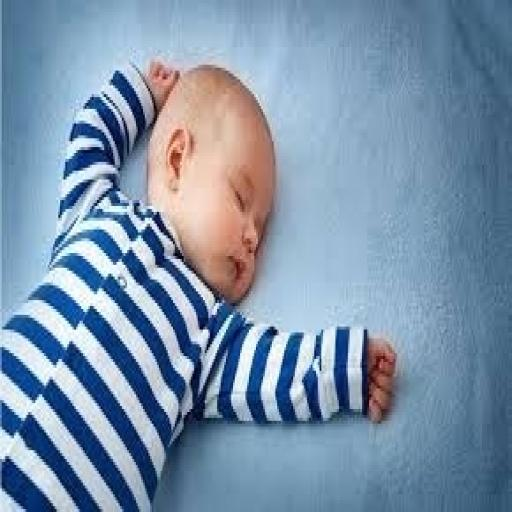sleeping: (2, 50, 399, 509)
